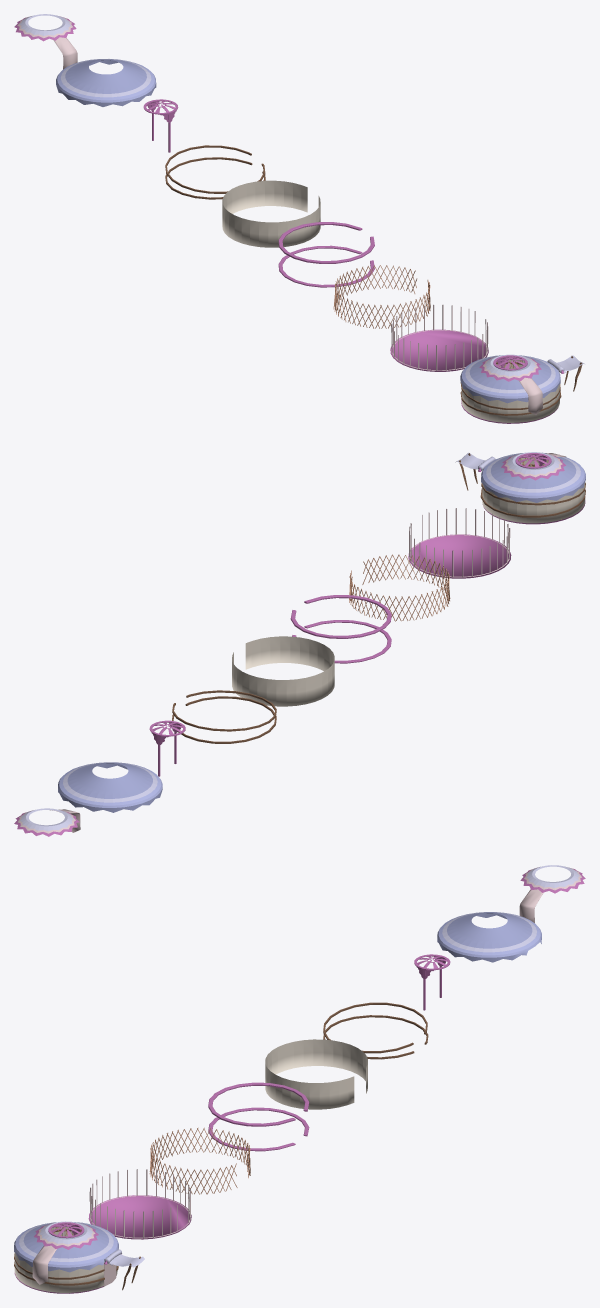
The model's file is yurte_grouped_reworked.fbx.
The picture shows the model from 3 angles, top to bottom: view 1: azimuth 30°, elevation 25°; view 2: azimuth 150°, elevation 25°; view 3: azimuth 330°, elevation 25°; orthographic projection. The views are drawn at different scales.
Visible parts, largest first — view 1: yurte_wand (×2), yurte_boden, yurte_dach, yurte_dach1, yurte_zirkel_innen, polySurface116, yurte_dach_deko, yurte_stäbe_links, yurte_zirkel_außen, yurte_stäbe_rechts1, yurte_core; view 2: yurte_wand (×2), yurte_boden, yurte_dach, yurte_dach1, yurte_zirkel_innen, yurte_zirkel_außen, yurte_stäbe_links, yurte_stäbe_rechts1, yurte_dach_deko, polySurface116, yurte_core, yurte_zirkel_außen03; view 3: yurte_wand (×2), yurte_boden, yurte_dach, yurte_dach1, yurte_zirkel_innen, polySurface116, yurte_dach_deko, yurte_stäbe_links, yurte_zirkel_außen, yurte_stäbe_rechts1, yurte_tür_tuch, yurte_core (+1 smaller).
Part boxes in pixels (x1,y1,x2,y2): yurte_wand (×2): (222,180,559,422); yurte_boden: (390,304,488,371); yurte_dach: (56,59,156,106); yurte_dach1: (460,355,560,403); yurte_zirkel_innen: (278,222,374,287); polySurface116: (479,354,542,414); yurte_dach_deko: (14,14,77,69); yurte_stäbe_links: (333,265,430,328); yurte_zirkel_außen: (165,145,265,199); yurte_stäbe_rechts1: (335,265,430,328); yurte_core: (143,99,178,152); yurte_wand (×2): (232,457,585,706); yurte_boden: (408,508,511,578); yurte_dach: (58,762,162,812); yurte_dach1: (481,452,585,502); yurte_zirkel_innen: (290,595,391,663); yurte_zirkel_außen: (172,690,276,743); yurte_stäbe_links: (349,554,450,621); yurte_stäbe_rechts1: (349,555,449,620); yurte_dach_deko: (14,808,80,836); polySurface116: (501,452,566,480); yurte_core: (149,720,185,776); yurte_zirkel_außen03: (480,464,585,517); yurte_wand (×2): (14,1039,367,1292); yurte_boden: (88,1169,191,1239); yurte_dach: (437,912,541,962); yurte_dach1: (14,1222,118,1272); yurte_zirkel_innen: (208,1082,309,1151); polySurface116: (32,1221,98,1284); yurte_dach_deko: (519,865,585,922); yurte_stäbe_links: (149,1127,250,1194); yurte_zirkel_außen: (323,1002,428,1059); yurte_stäbe_rechts1: (150,1128,250,1193); yurte_tür_tuch: (104,1249,144,1290); yurte_core: (414,954,450,1010).
Bounding box in the file's own units: 29.61 × 10.66 × 230.
